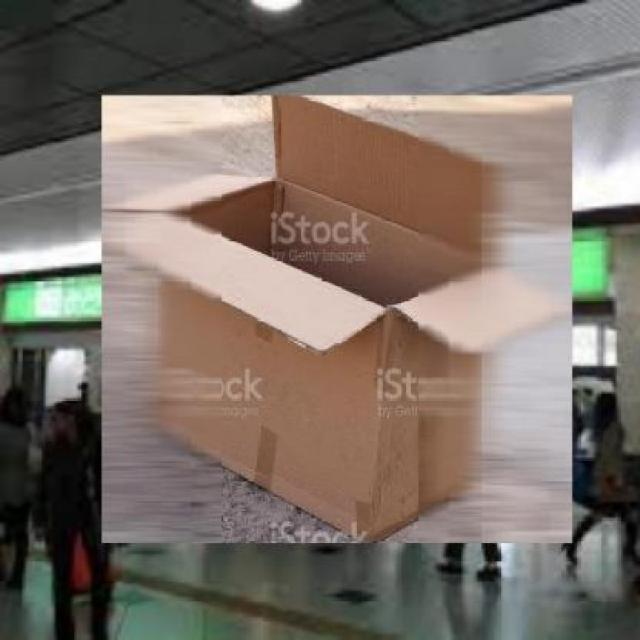box: (95, 89, 580, 552)
